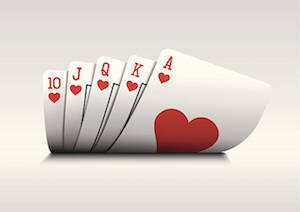AceOfHearts: (148, 46, 275, 174)
JackOfHearts: (65, 62, 95, 152)
KingOfHearts: (120, 56, 152, 154)
QueenOfHearts: (91, 55, 119, 141)
TenOfHearts: (41, 70, 68, 144)
